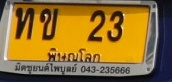txt02: (38, 7, 59, 42)
txt18: (13, 6, 34, 41)
